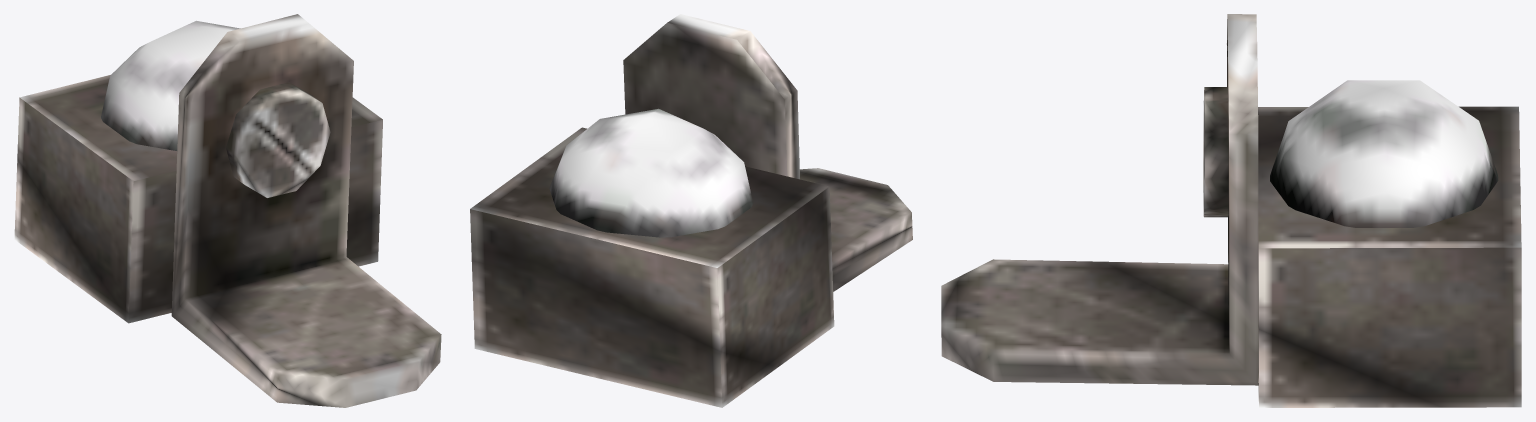
File: Robot01.LeftFoot1.fbx
The picture shows the model from 3 angles, left to right: view 1: azimuth 30°, elevation 25°; view 2: azimuth 150°, elevation 25°; view 3: azimuth 270°, elevation 25°; orthographic projection. The views are drawn at different scales.
Visible parts, largest first — view 1: Robot01.LeftFoot1; view 2: Robot01.LeftFoot1; view 3: Robot01.LeftFoot1.
Part boxes in pixels (bbox=[...]): Robot01.LeftFoot1: bbox=[14, 14, 441, 407]; Robot01.LeftFoot1: bbox=[470, 14, 912, 407]; Robot01.LeftFoot1: bbox=[941, 14, 1521, 407].
Bounding box in the file's own units: 28.57 × 29.02 × 48.75.
